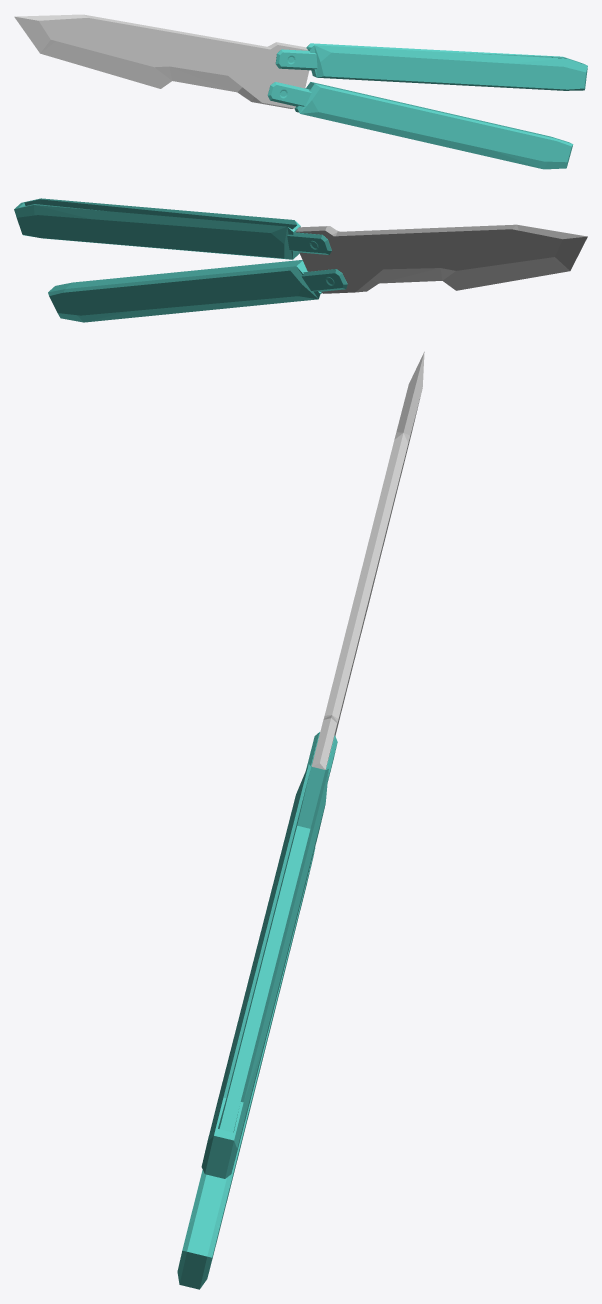
Rendered from balisong.obj.
3 renders of one model, top to bottom at view 1: azimuth 30°, elevation 25°; view 2: azimuth 150°, elevation 25°; view 3: azimuth 270°, elevation 25°, orthographic. The views are drawn at different scales.
Parts seen in each view (by area): view 1: Blade, Handle2, Handle1; view 2: Blade, Handle2, Handle1; view 3: Handle2, Blade, Handle1.
Part boxes in pixels (x1,y1,x2,y2): Blade: (14,14,309,108); Handle2: (275,43,587,90); Handle1: (267,82,573,169); Blade: (295,224,587,293); Handle2: (14,198,331,259); Handle1: (48,260,347,322); Handle2: (201,732,337,1178); Blade: (311,351,424,769); Handle1: (177,847,315,1289).
Size of the model in its own units: 2.85 by 1.19 by 0.5837.
